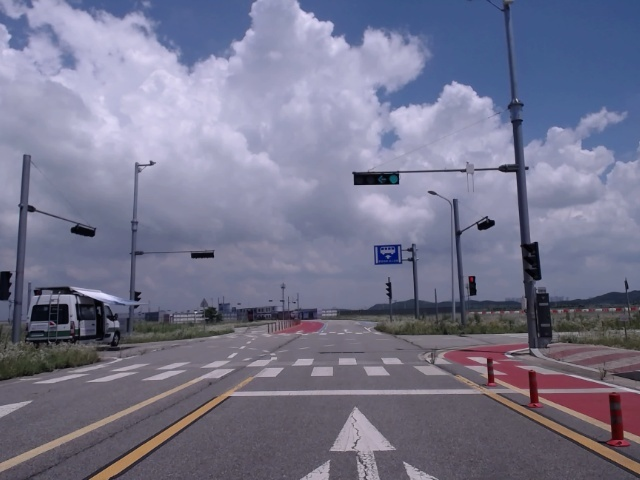all_green_4: (358, 172, 399, 184)
